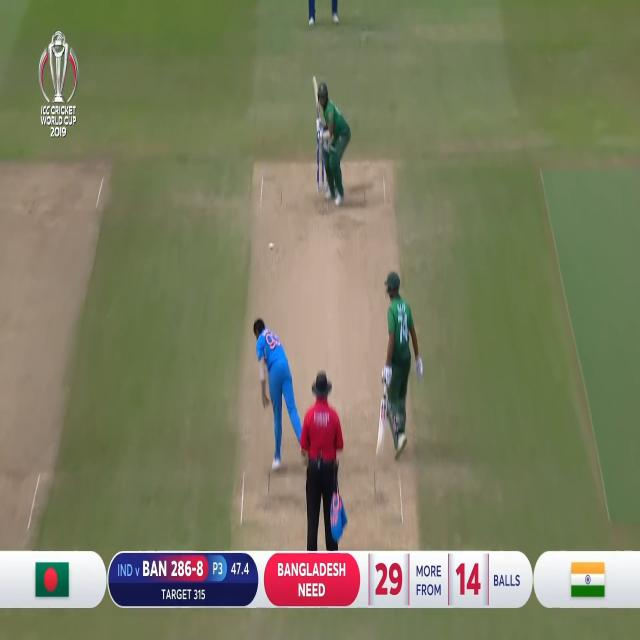ball: (268, 240, 274, 250)
stump: (316, 130, 330, 194)
